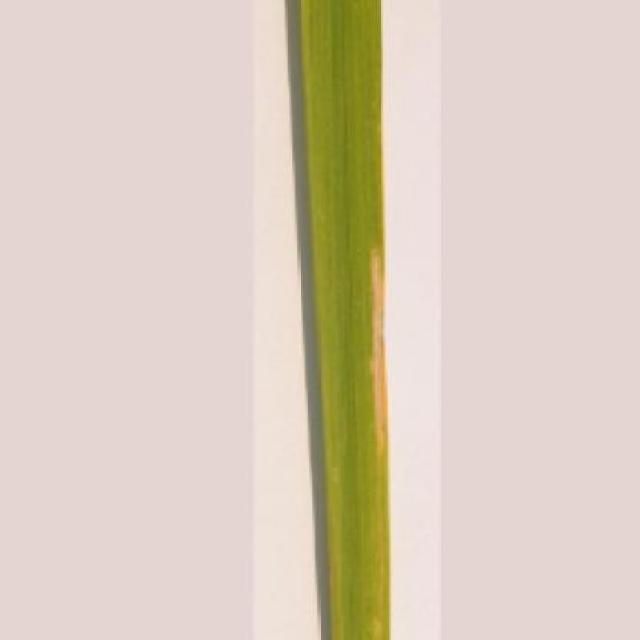Brown_Spot: (293, 0, 393, 640)
